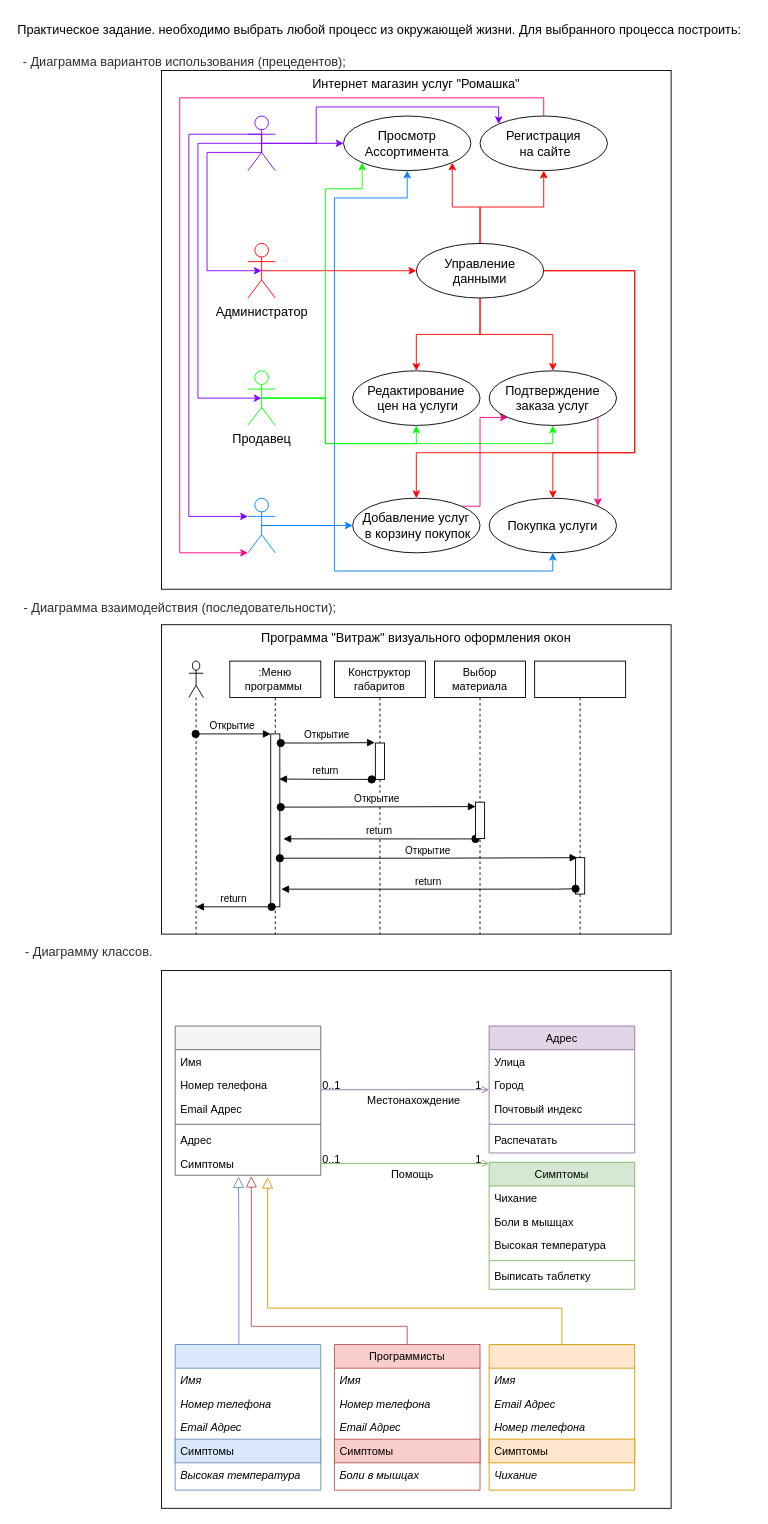
The diagram is 768 pixels wide and 1524 high, and some of its shapes have lost their labels. Here are the shapes that lost their labels. From the top down, the box of each, then its label:
(247, 115, 275, 171): Пользователь
(247, 497, 275, 553): Регистрированный Покупатель
(534, 660, 626, 934): Визуальный вывод на экран
(174, 1025, 321, 1175): Анонимы
(161, 970, 671, 1508): Журнал клуба анонимных людей с сложной жизненной ситуацией
(174, 1344, 321, 1490): Игроманы
(488, 1344, 635, 1490): Дизайнеры
